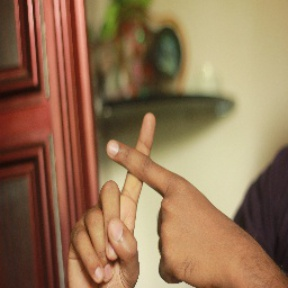X: (84, 109, 201, 236)
